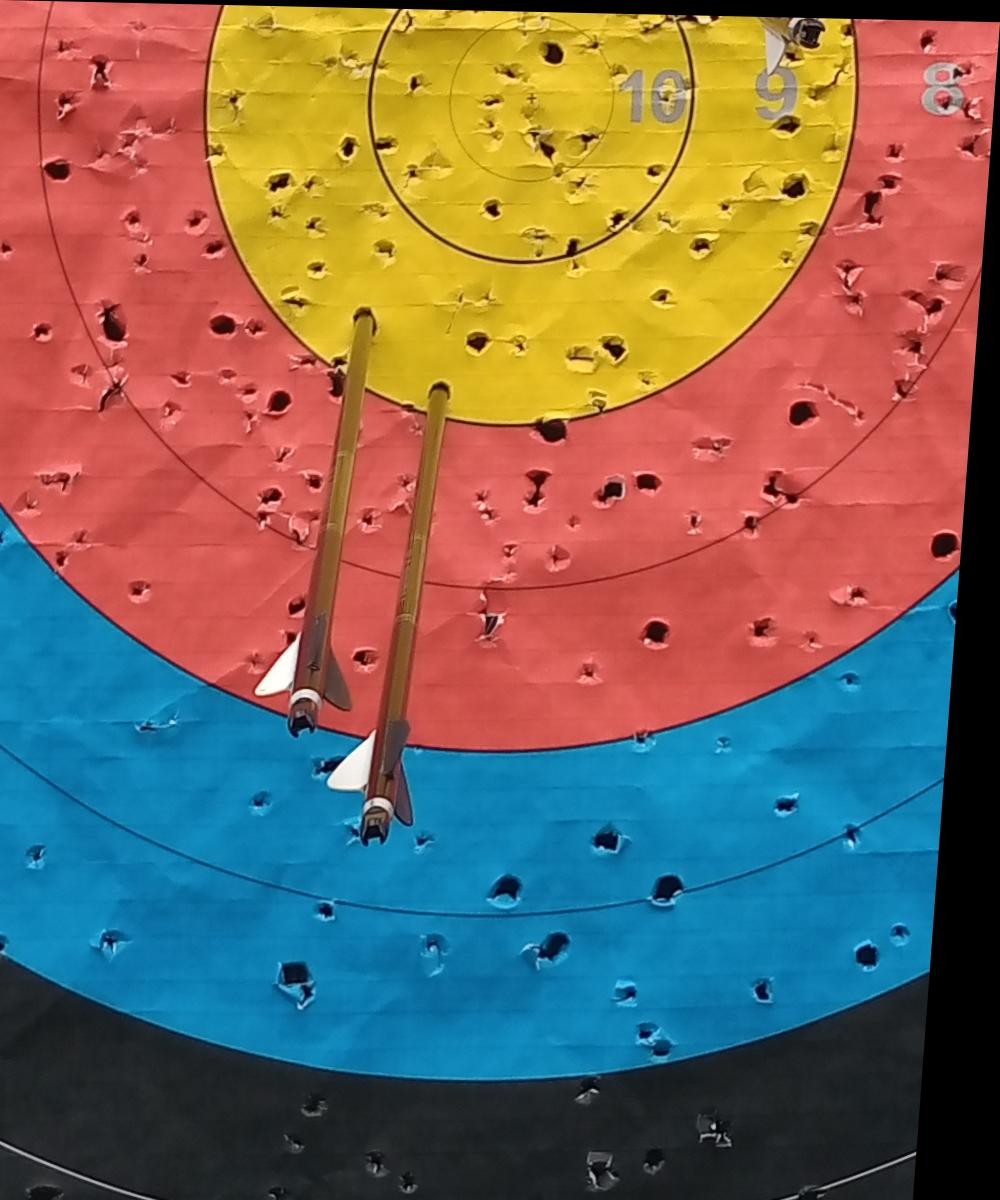10-Ring: (366, 6, 696, 266)
9-Ring: (200, 4, 860, 427)
Arrow: (334, 381, 454, 848), (264, 313, 377, 739), (753, 13, 825, 72)
